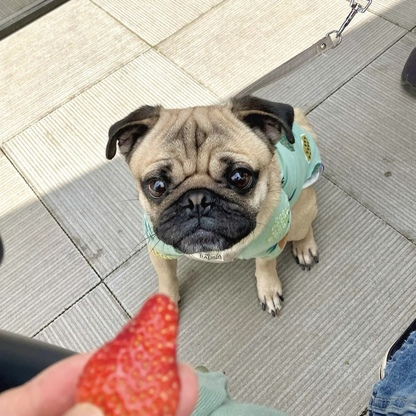Pug: (102, 91, 328, 319)
